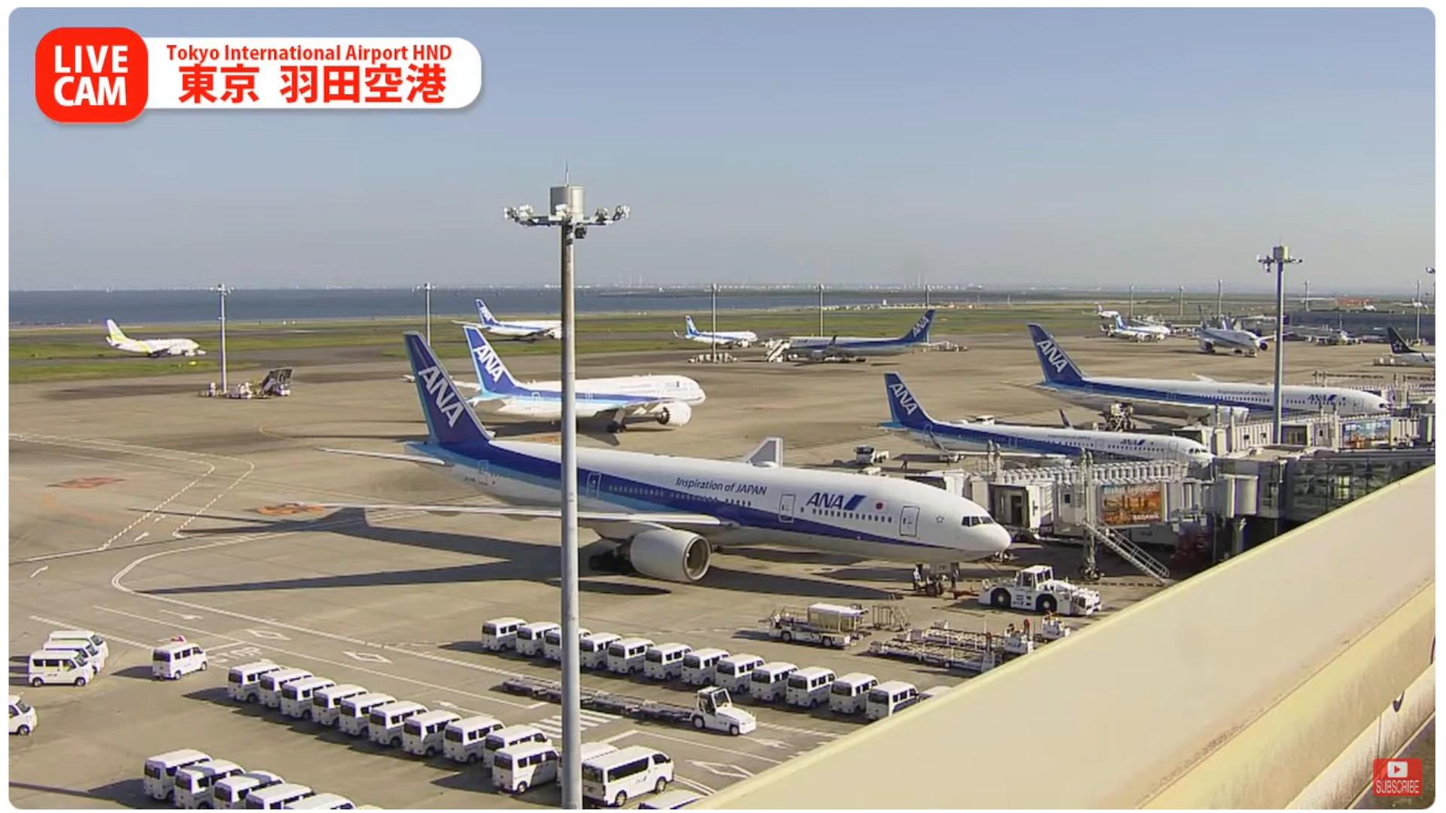APS: (971, 565, 1107, 618)
Aerobridge: (880, 463, 1198, 520), (990, 479, 1258, 539)
Airplane: (308, 328, 1018, 599)
Dolly: (495, 672, 697, 728)
JCPL: (904, 613, 1077, 658), (867, 634, 1012, 675)
Skyloader: (761, 600, 870, 651)
Tractor: (694, 683, 761, 736)
Window: (1281, 462, 1437, 524)
